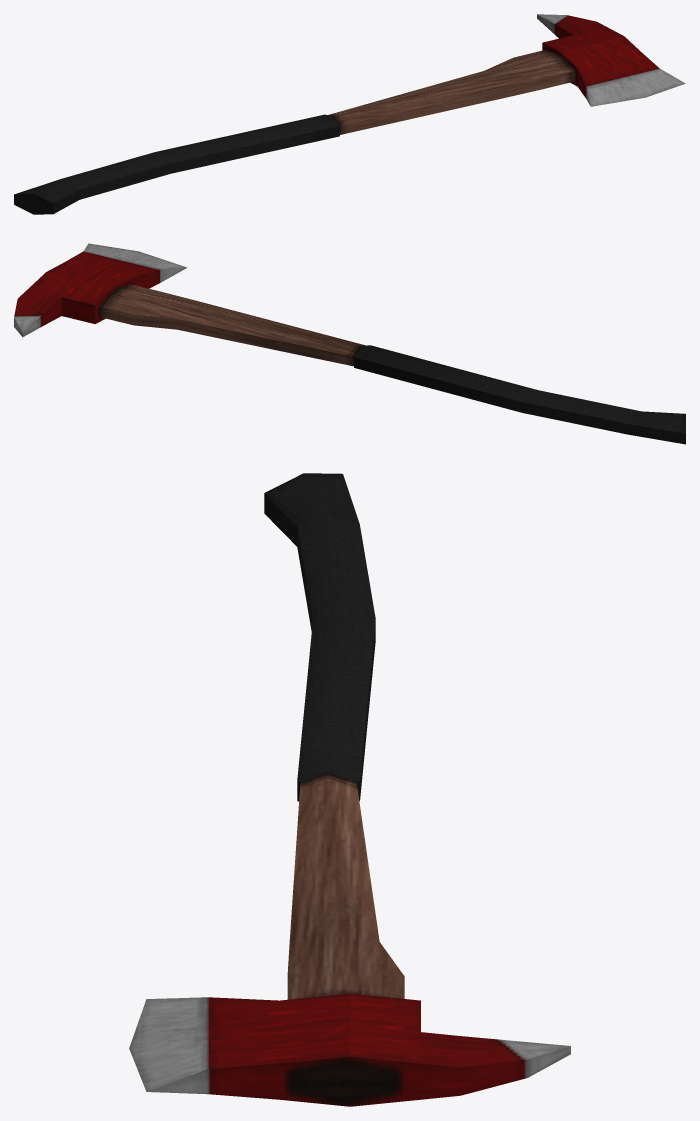
Rendered from fireaxe.FBX.
The picture shows the model from 3 angles, top to bottom: view 1: azimuth 30°, elevation 25°; view 2: azimuth 150°, elevation 25°; view 3: azimuth 270°, elevation 25°; orthographic projection. The views are drawn at different scales.
Parts seen in each view (by area): view 1: Cylinder001; view 2: Cylinder001; view 3: Cylinder001.
Part boxes in pixels (x1,y1,x2,y2): Cylinder001: [14, 14, 685, 214]; Cylinder001: [14, 243, 685, 444]; Cylinder001: [129, 473, 570, 1106].
Size of the model in its own units: 1181 by 45.48 by 363.
